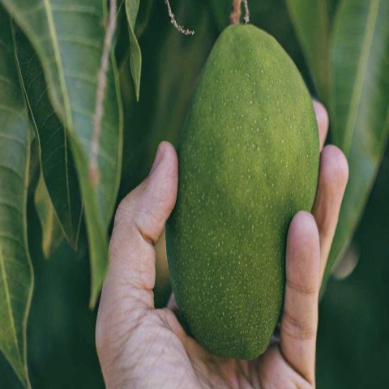mango: (137, 8, 370, 372)
